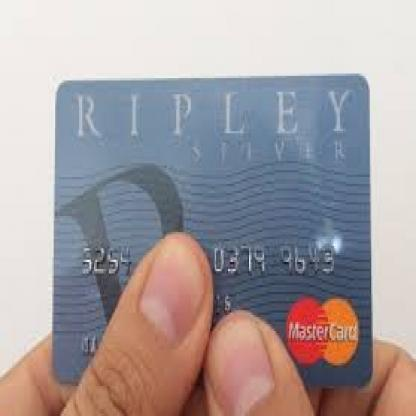tarjeta: (52, 71, 371, 386)
